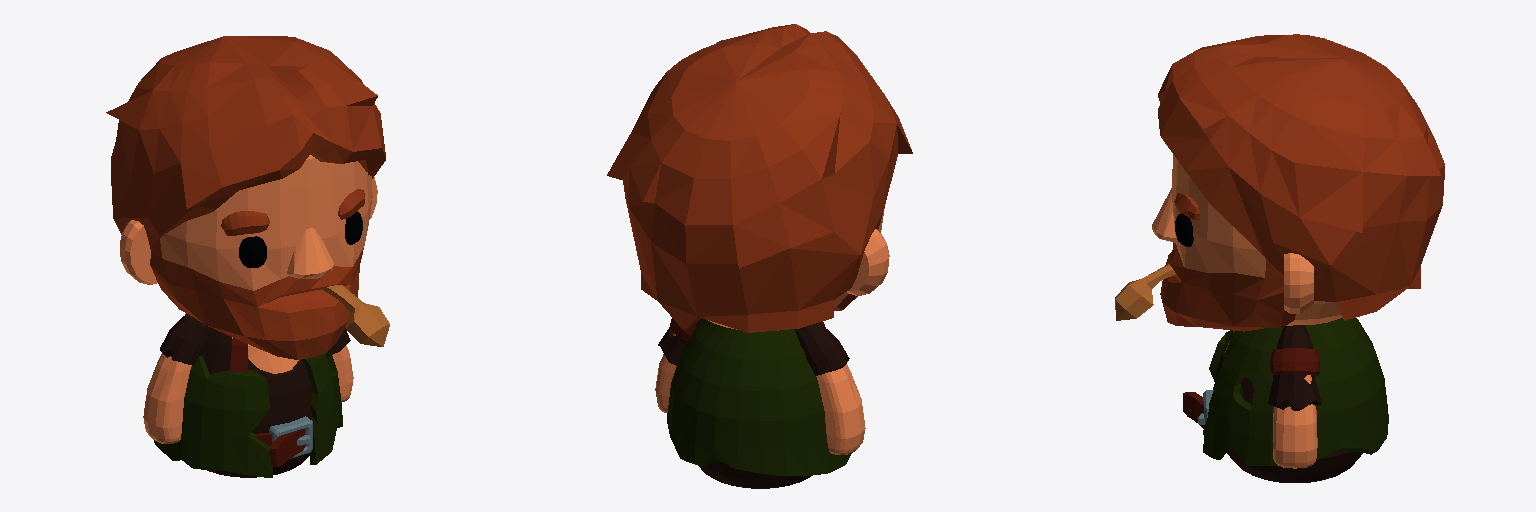
File: character_villager_male2.obj
3 renders of one model, left to right at view 1: azimuth 30°, elevation 25°; view 2: azimuth 150°, elevation 25°; view 3: azimuth 270°, elevation 25°, orthographic.
Parts seen in each view (by area): view 1: character_villager_male2_head_Cube.839, character_villager_male2_body_Cube.837, character_villager_male2_armRight_Cube.836, straw_Cube.10209, character_villager_male2_armLeft_Cube.838; view 2: character_villager_male2_head_Cube.839, character_villager_male2_body_Cube.837, character_villager_male2_armRight_Cube.836, character_villager_male2_armLeft_Cube.838; view 3: character_villager_male2_head_Cube.839, character_villager_male2_body_Cube.837, character_villager_male2_armLeft_Cube.838, straw_Cube.10209.
Part boxes in pixels (x1,y1,x2,y2): character_villager_male2_head_Cube.839: (106,36,385,359); character_villager_male2_body_Cube.837: (154,314,342,477); character_villager_male2_armRight_Cube.836: (143,314,211,443); straw_Cube.10209: (322,285,389,346); character_villager_male2_armLeft_Cube.838: (330,329,353,402); character_villager_male2_head_Cube.839: (607,24,912,332); character_villager_male2_body_Cube.837: (667,319,854,488); character_villager_male2_armRight_Cube.836: (795,323,865,454); character_villager_male2_armLeft_Cube.838: (655,318,703,412); character_villager_male2_head_Cube.839: (1152,34,1444,331); character_villager_male2_body_Cube.837: (1183,318,1388,482); character_villager_male2_armLeft_Cube.838: (1268,325,1321,468); straw_Cube.10209: (1115,264,1175,320).
Bounding box in the file's own units: 1.18 × 1.81 × 1.33.